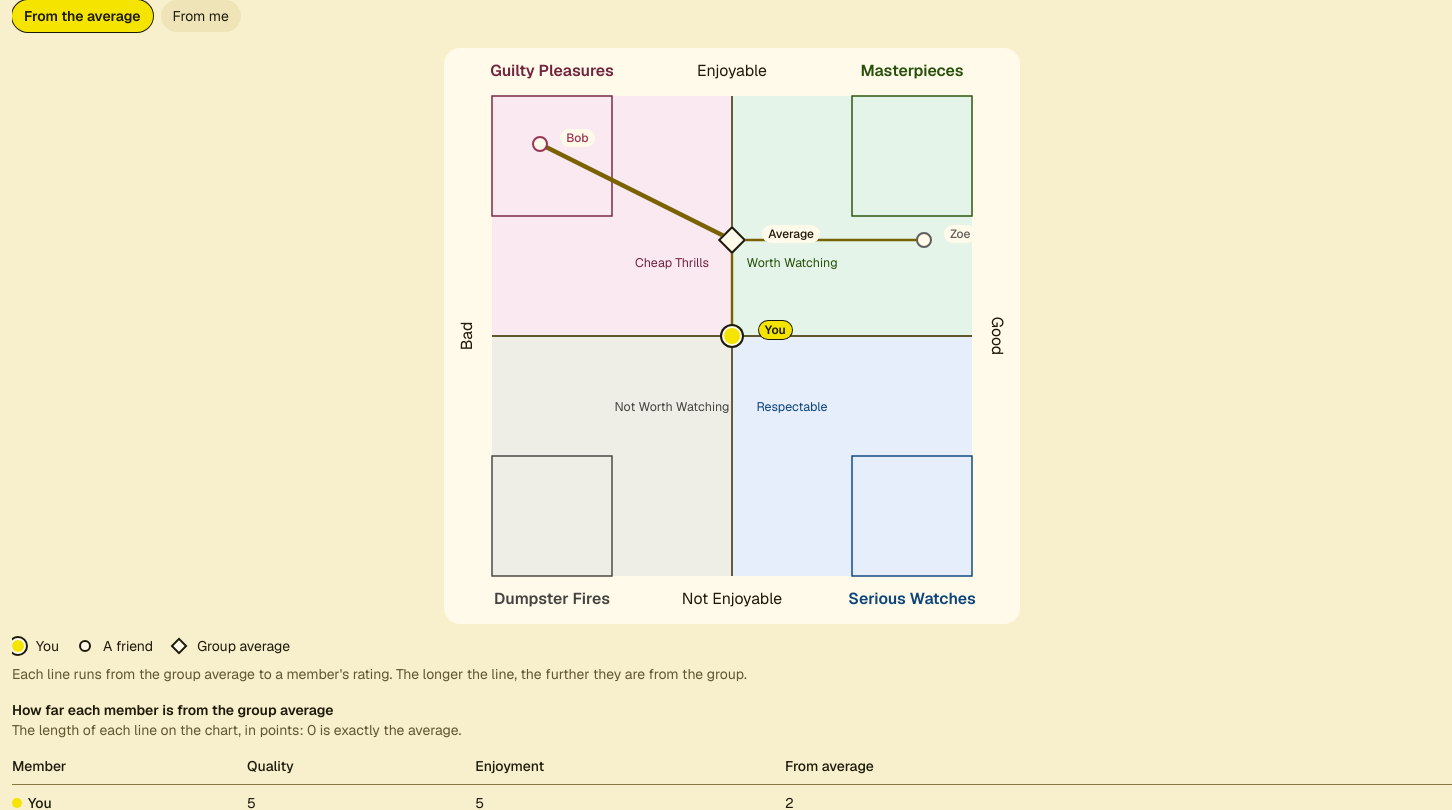
Test: SpokeMapSwitch: the table and the numbers (R99, R100) › switches the table with the map
What coordinates should you click on to do the following:
click the button "From me"
I would click on:
 (201, 16)
Its box is x1=161 y1=0 x2=241 y2=32.
(page scrolled)
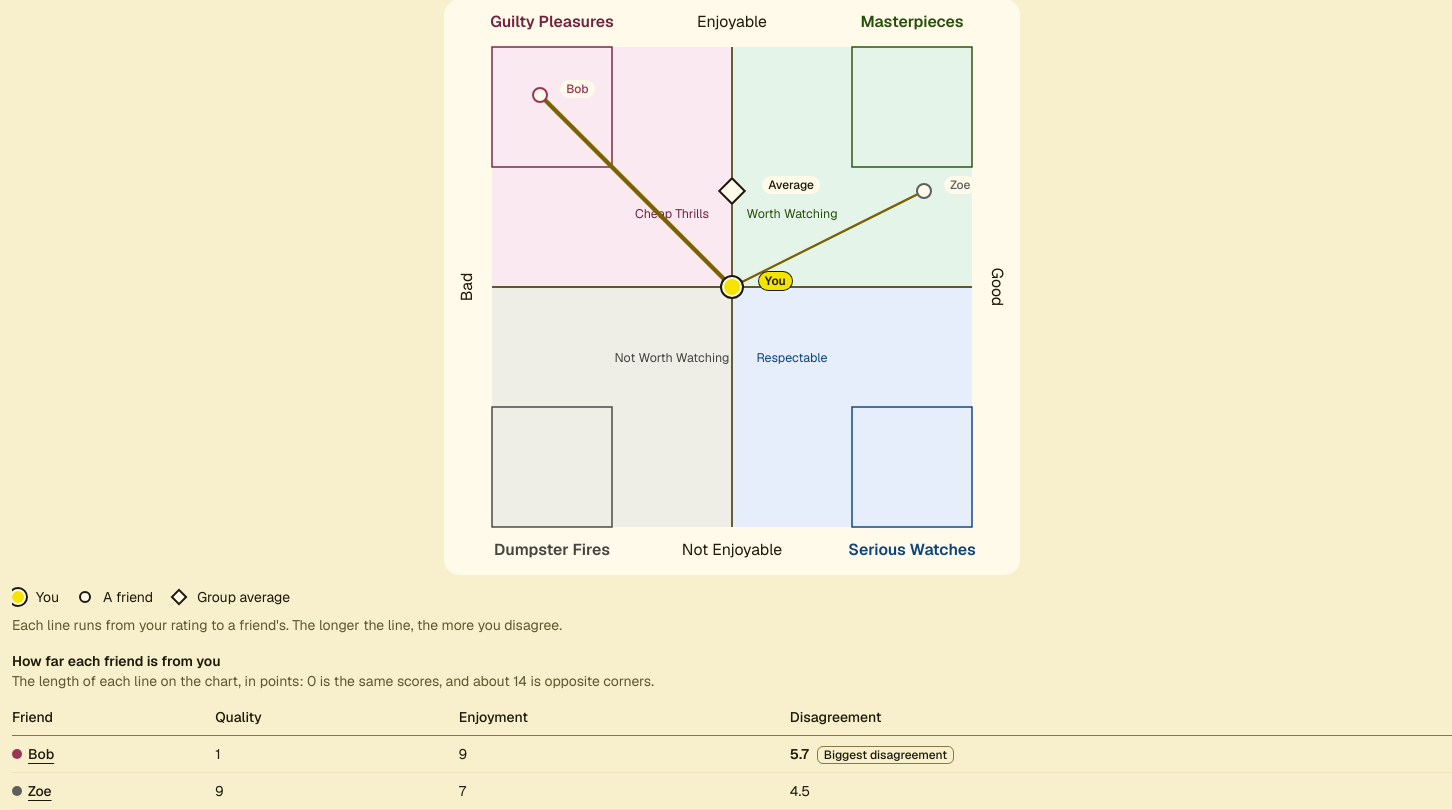
Check: the table "How far each friend is from you" is shown, box x1=12 y1=651 x2=1451 y2=809
